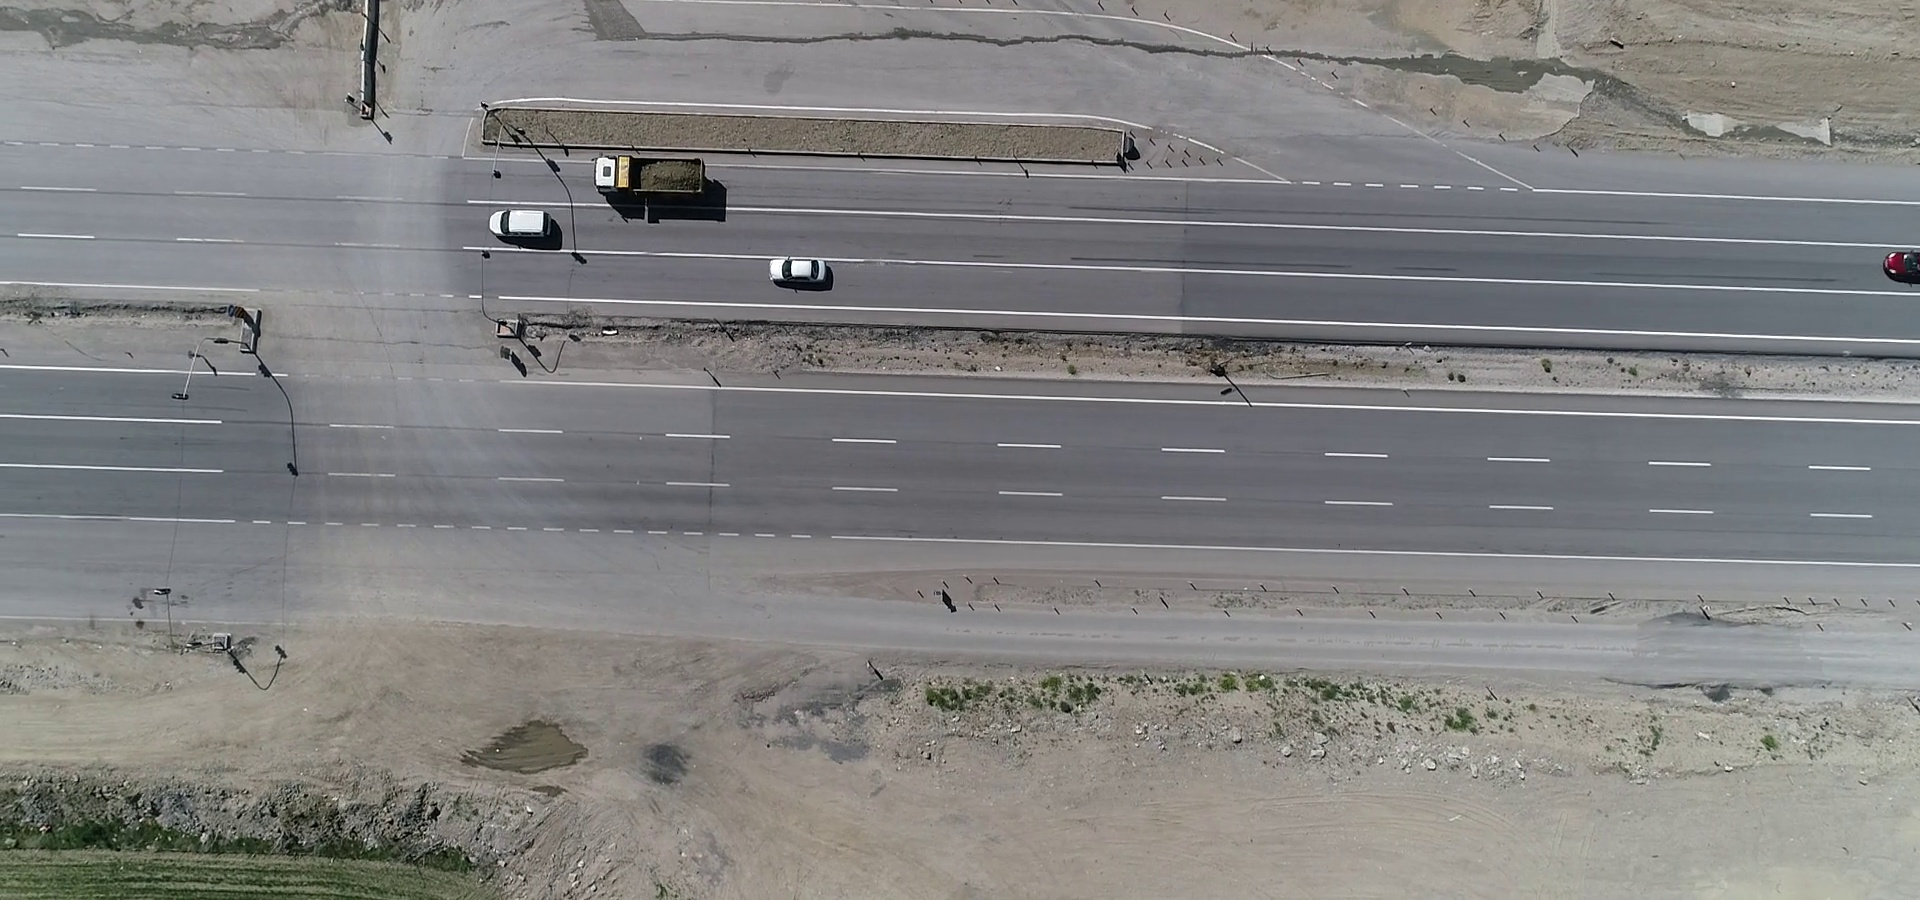araba: (756, 247, 850, 298), (482, 203, 567, 253)
kamyon: (594, 151, 725, 204)
